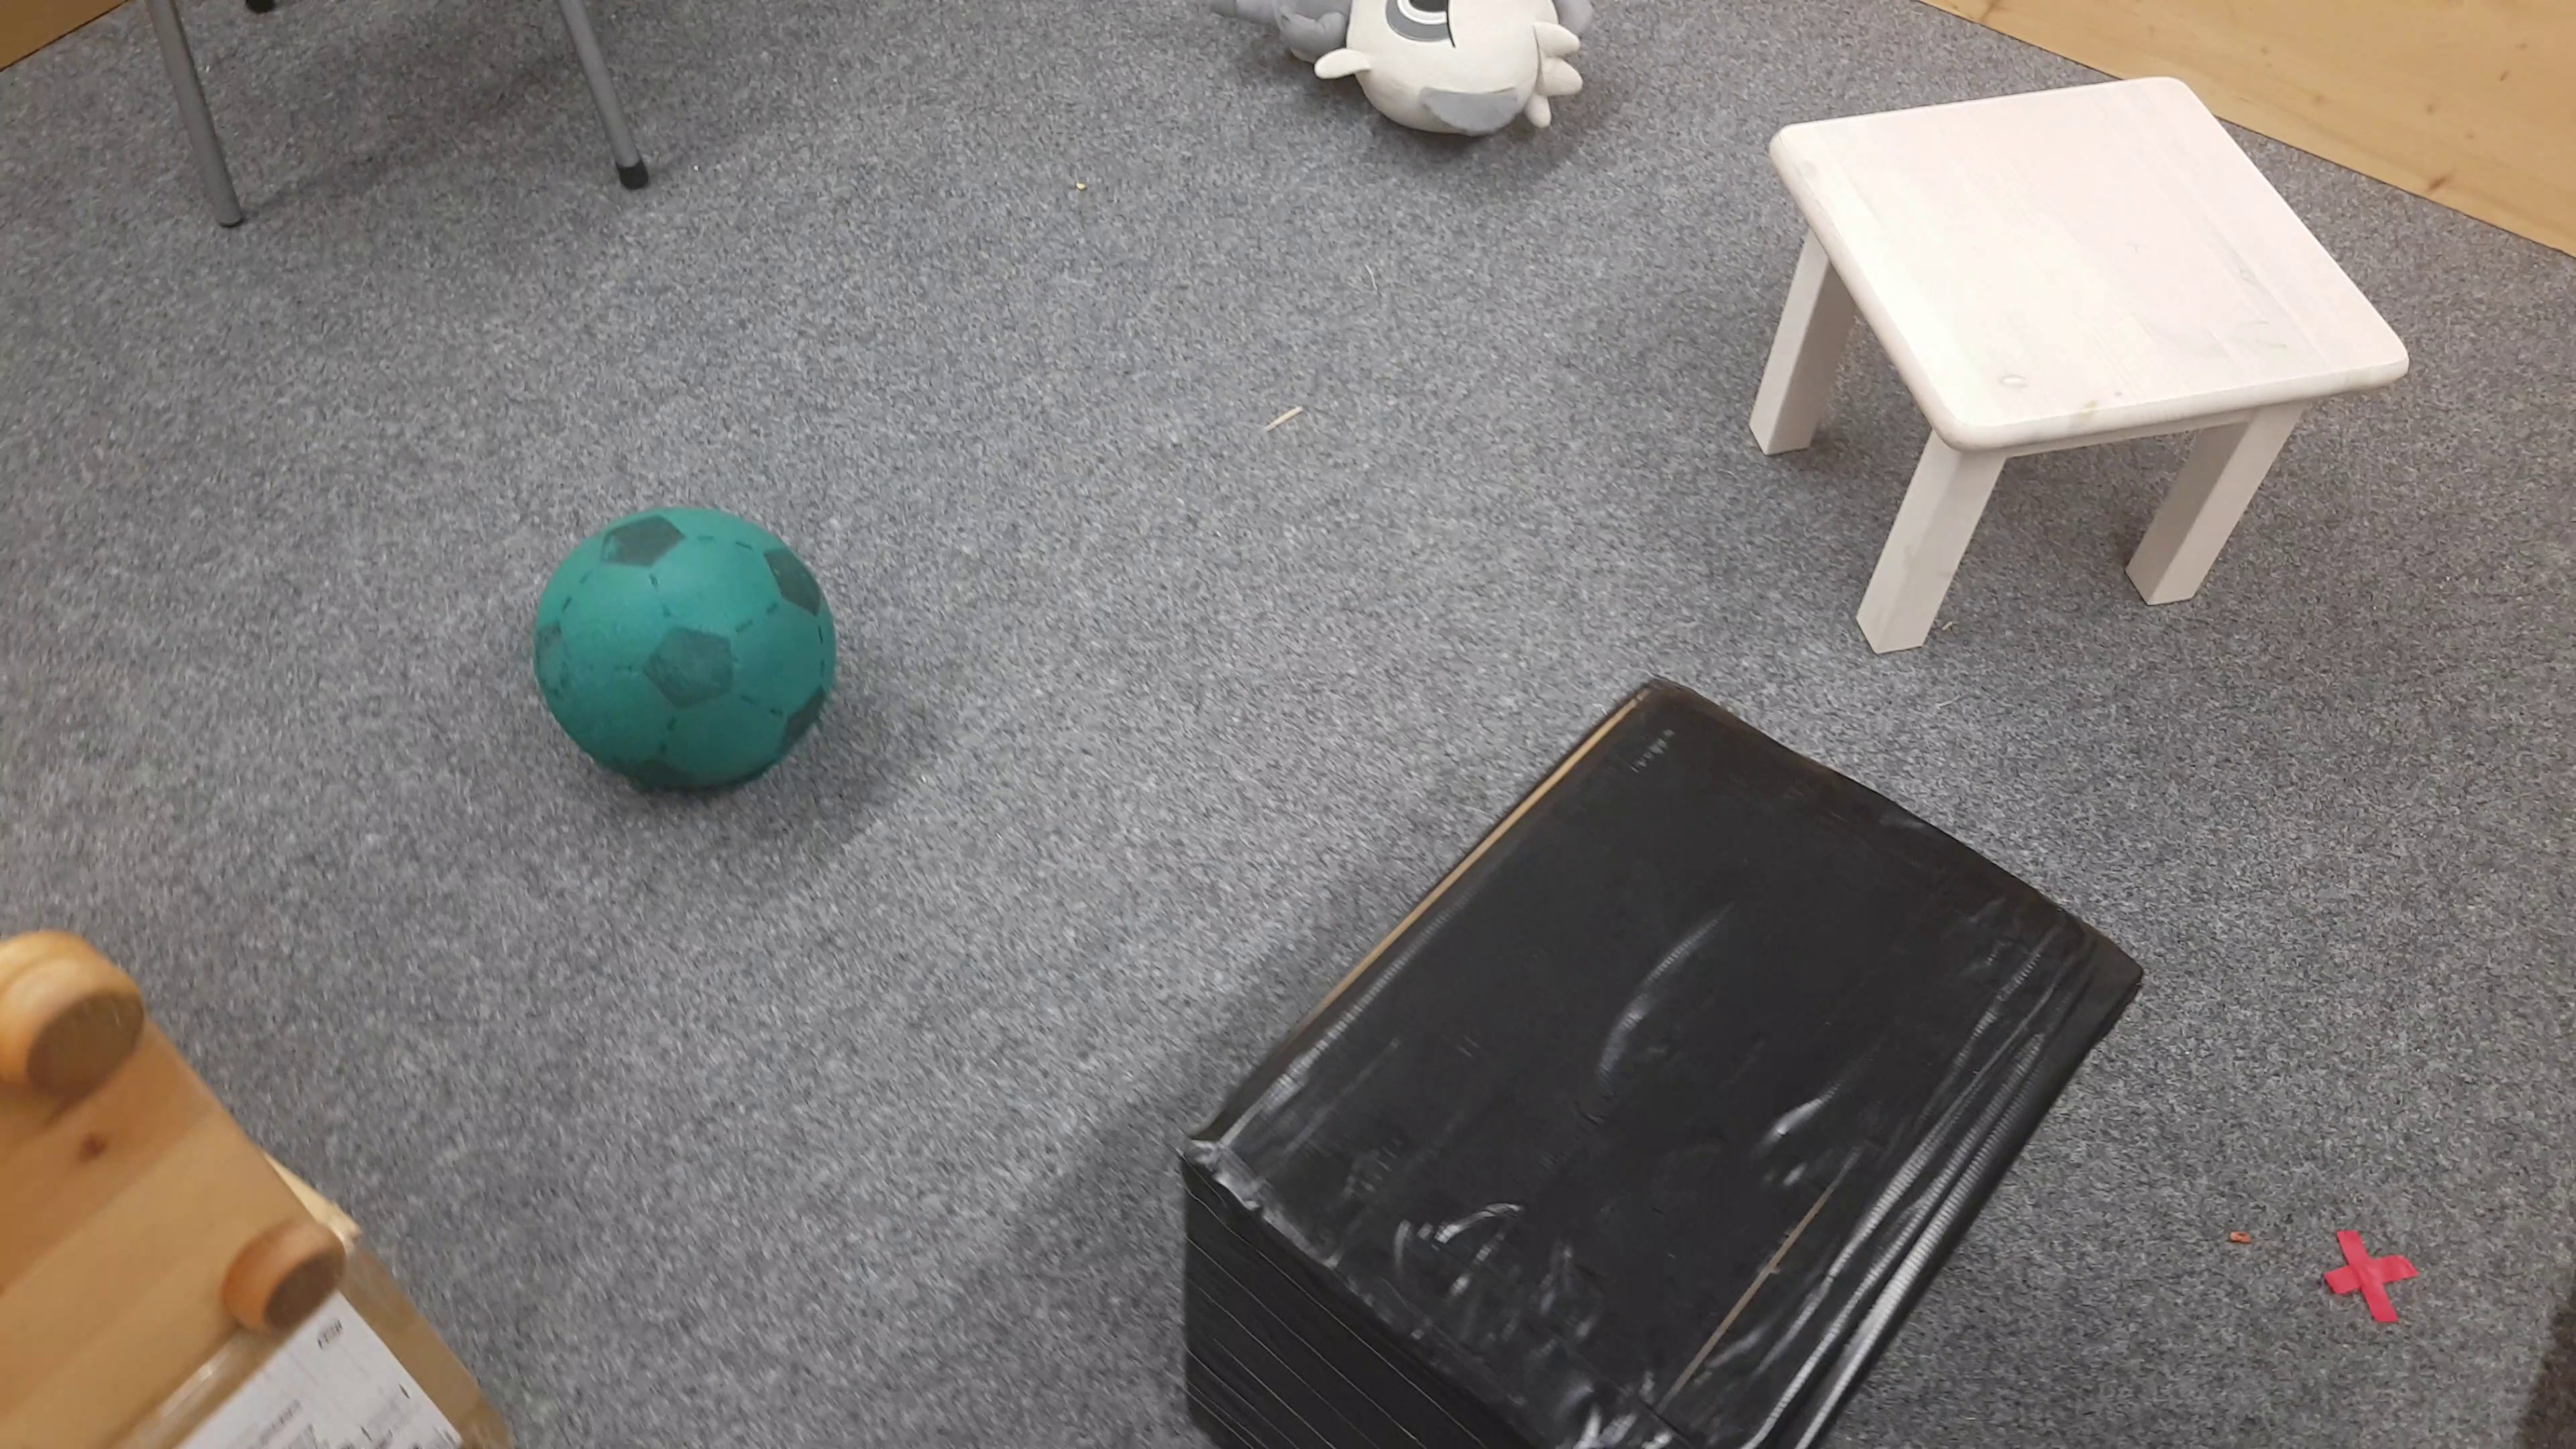grasp: (1224, 0, 1598, 154)
kick: (533, 499, 839, 796)
push: (1171, 671, 2151, 1449)
